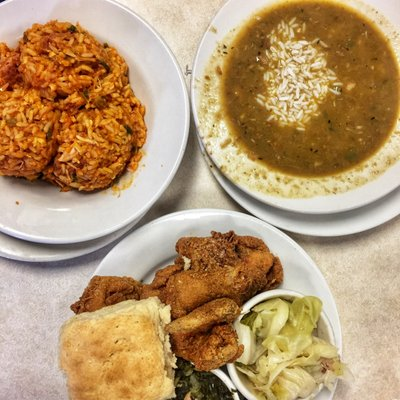soup: (58, 295, 177, 400)
sushi: (192, 0, 400, 214)
